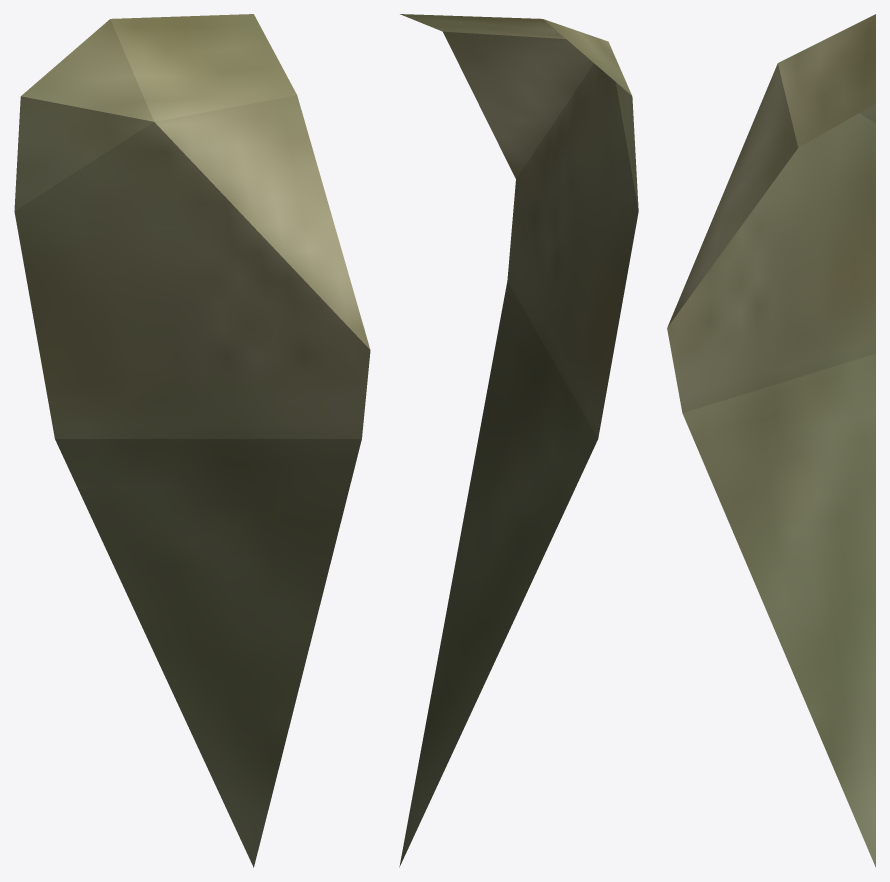
The picture shows the model from 3 angles, left to right: view 1: azimuth 30°, elevation 25°; view 2: azimuth 150°, elevation 25°; view 3: azimuth 270°, elevation 25°; orthographic projection. The views are drawn at different scales.
Size of the model in its own units: 0.1156 by 0.4079 by 0.0976.
1 material, 1 textured.
